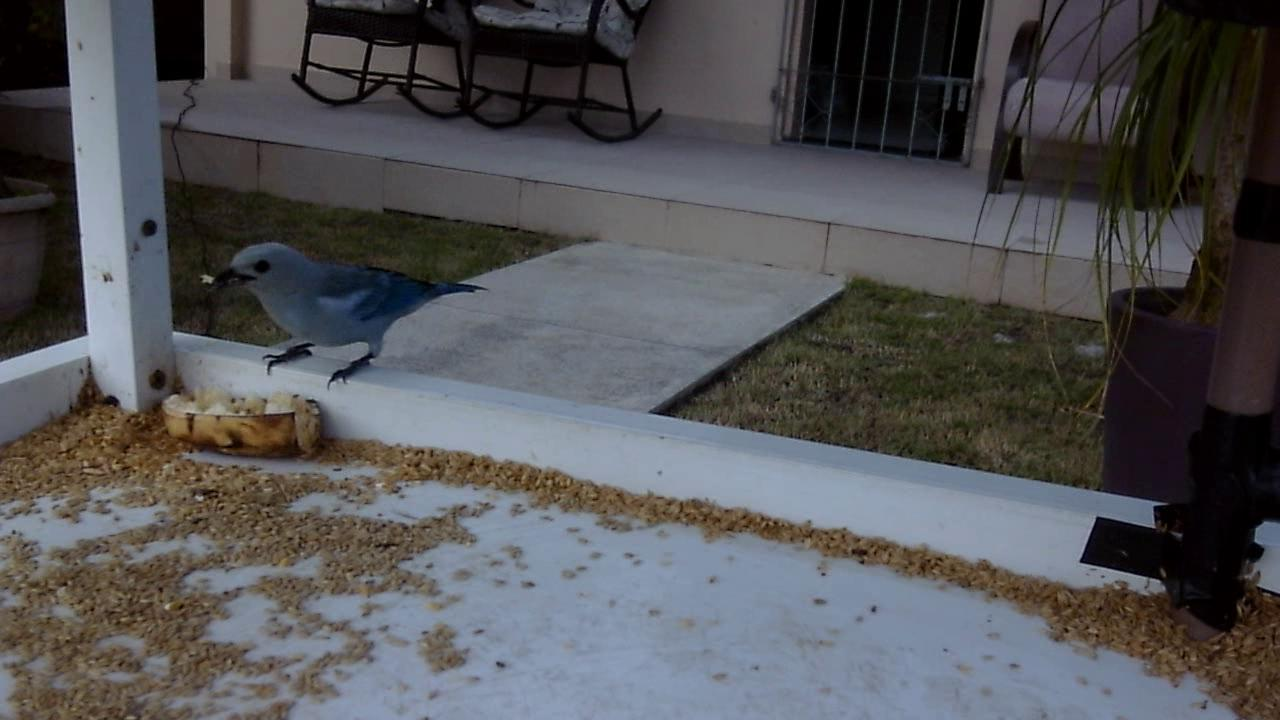sanhaco_da_amazonia: (203, 233, 493, 395)
